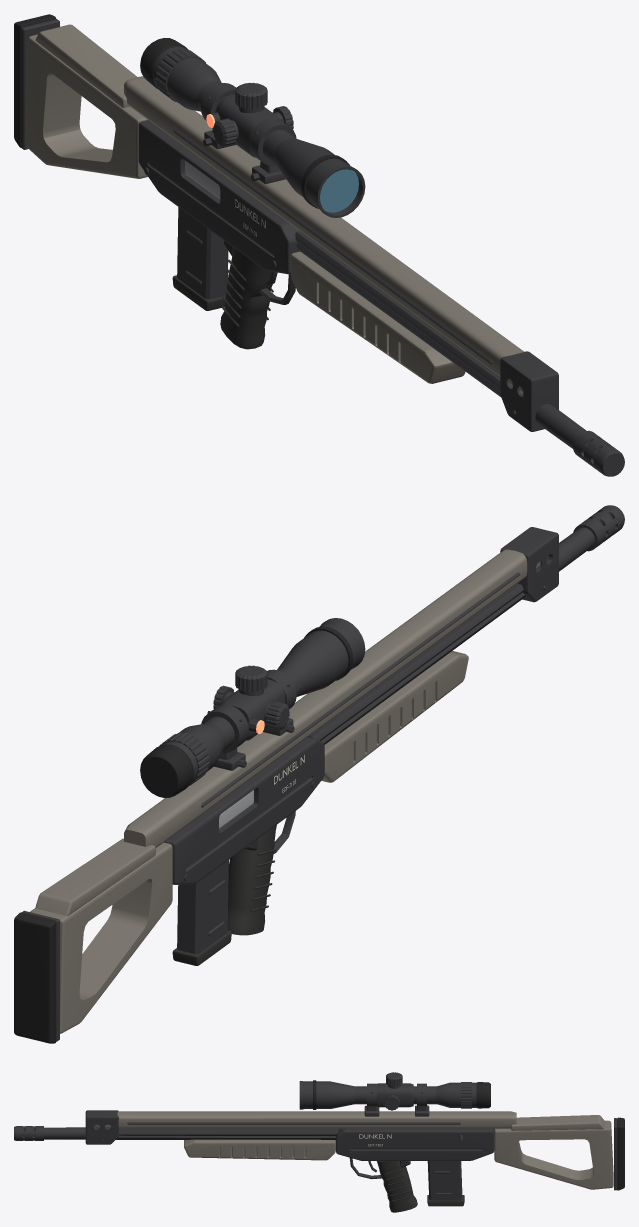
File: dunkel.glb
3 renders of one model, top to bottom at view 1: azimuth 30°, elevation 25°; view 2: azimuth 150°, elevation 25°; view 3: azimuth 270°, elevation 25°, orthographic. The views are drawn at different scales.
Visible parts, largest first — view 1: Body; view 2: Body; view 3: Body.
Part boxes in pixels (x1=…): Body: x1=14, y1=14, x2=624, y2=476; Body: x1=14, y1=505, x2=624, y2=1043; Body: x1=14, y1=1072, x2=624, y2=1212.
Size of the model in its own units: 0.076 by 0.2684 by 1.1.
